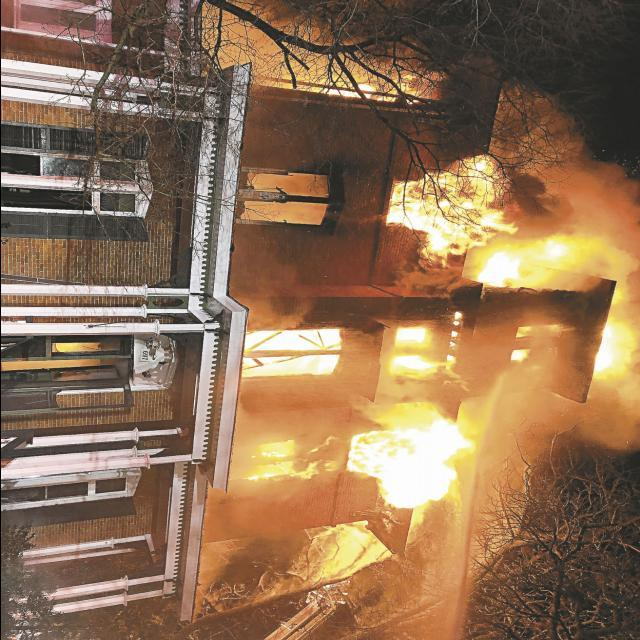Fire: (233, 170, 619, 507)
